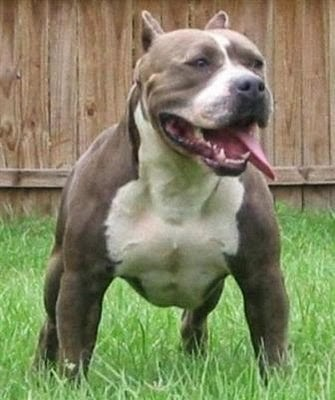Perro Pitbull: (45, 5, 307, 388)
